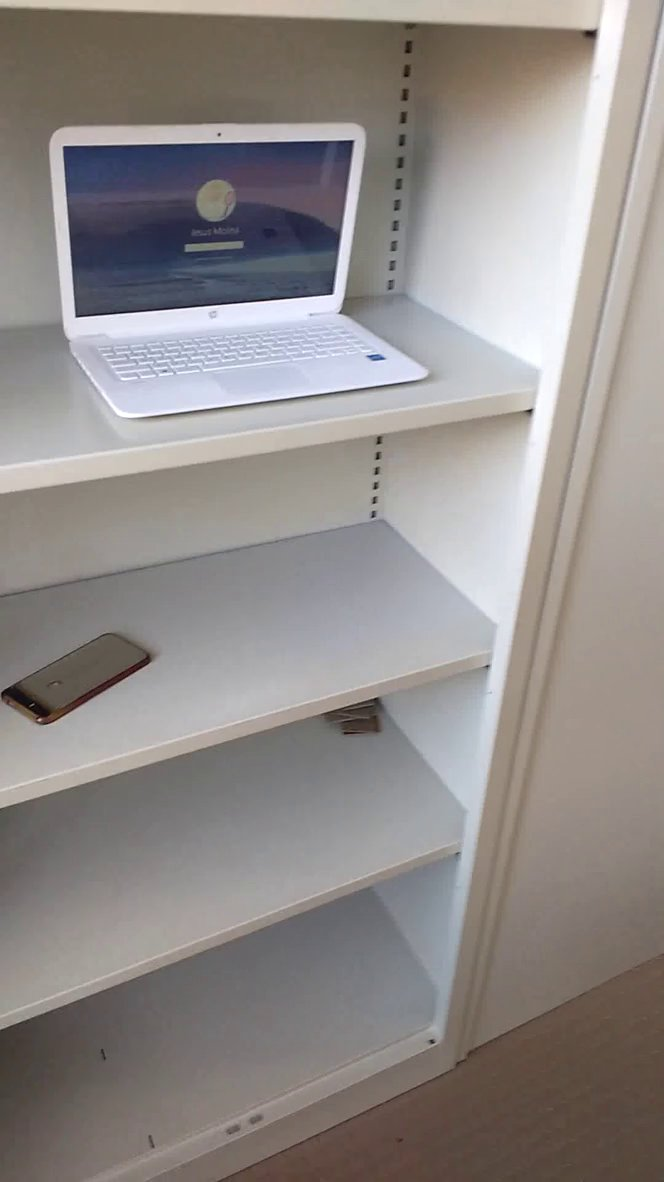laptop: (42, 101, 453, 444)
phone: (1, 625, 163, 731)
